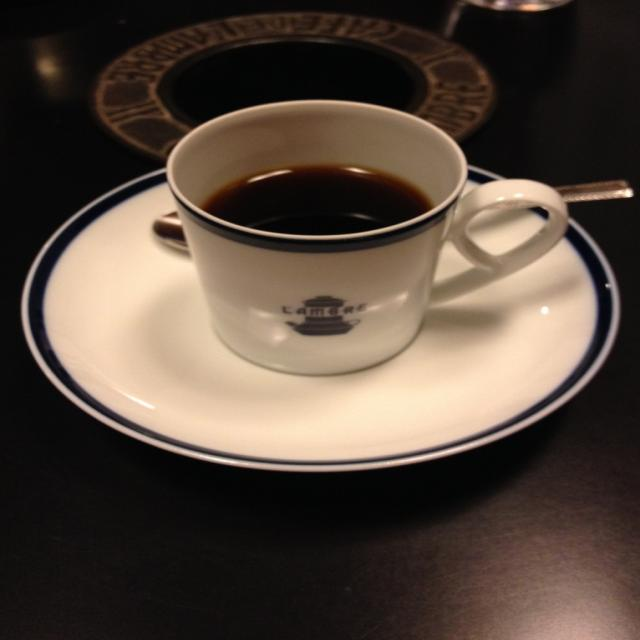Coffee: (200, 162, 436, 236)
Tea: (200, 166, 440, 235)
